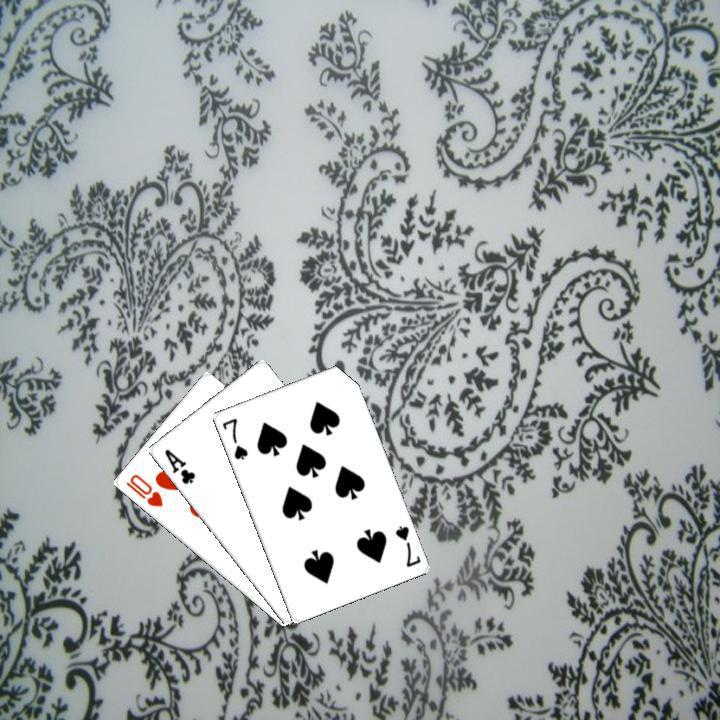10: (121, 470, 165, 509)
7: (217, 414, 250, 461), (390, 521, 422, 569)
A: (160, 444, 197, 486)
